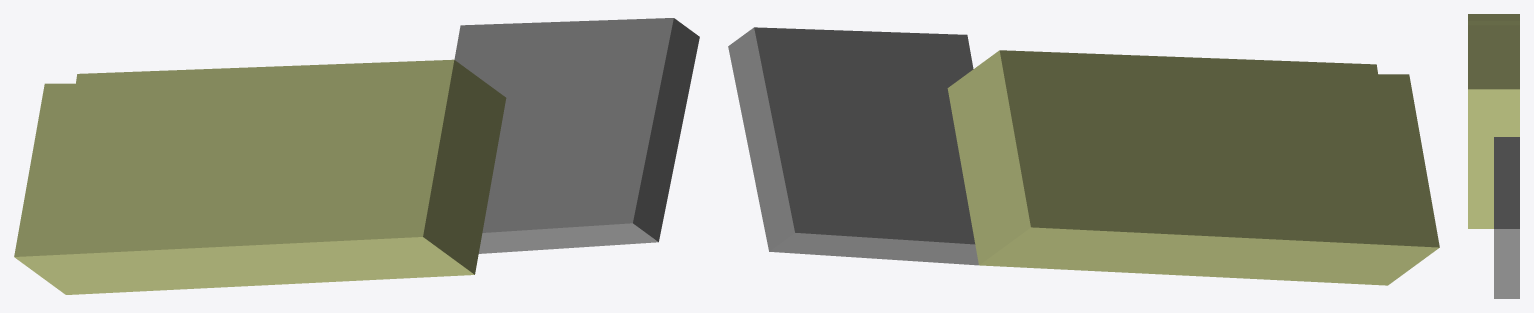
3 renders of one model, left to right at view 1: azimuth 30°, elevation 25°; view 2: azimuth 150°, elevation 25°; view 3: azimuth 270°, elevation 25°, orthographic. The views are drawn at different scales.
Parts seen in each view (by area): view 1: 0_3_0_2_1_1_2_3_2; view 2: 0_3_0_2_1_1_2_3_2; view 3: 0_3_0_2_1_1_2_3_2.
Part boxes in pixels (<box>): 0_3_0_2_1_1_2_3_2: <box>14,18,699,294</box>; 0_3_0_2_1_1_2_3_2: <box>728,27,1439,285</box>; 0_3_0_2_1_1_2_3_2: <box>1468,14,1519,298</box>.
Size of the model in its own units: 43.98 by 18.15 by 6.
